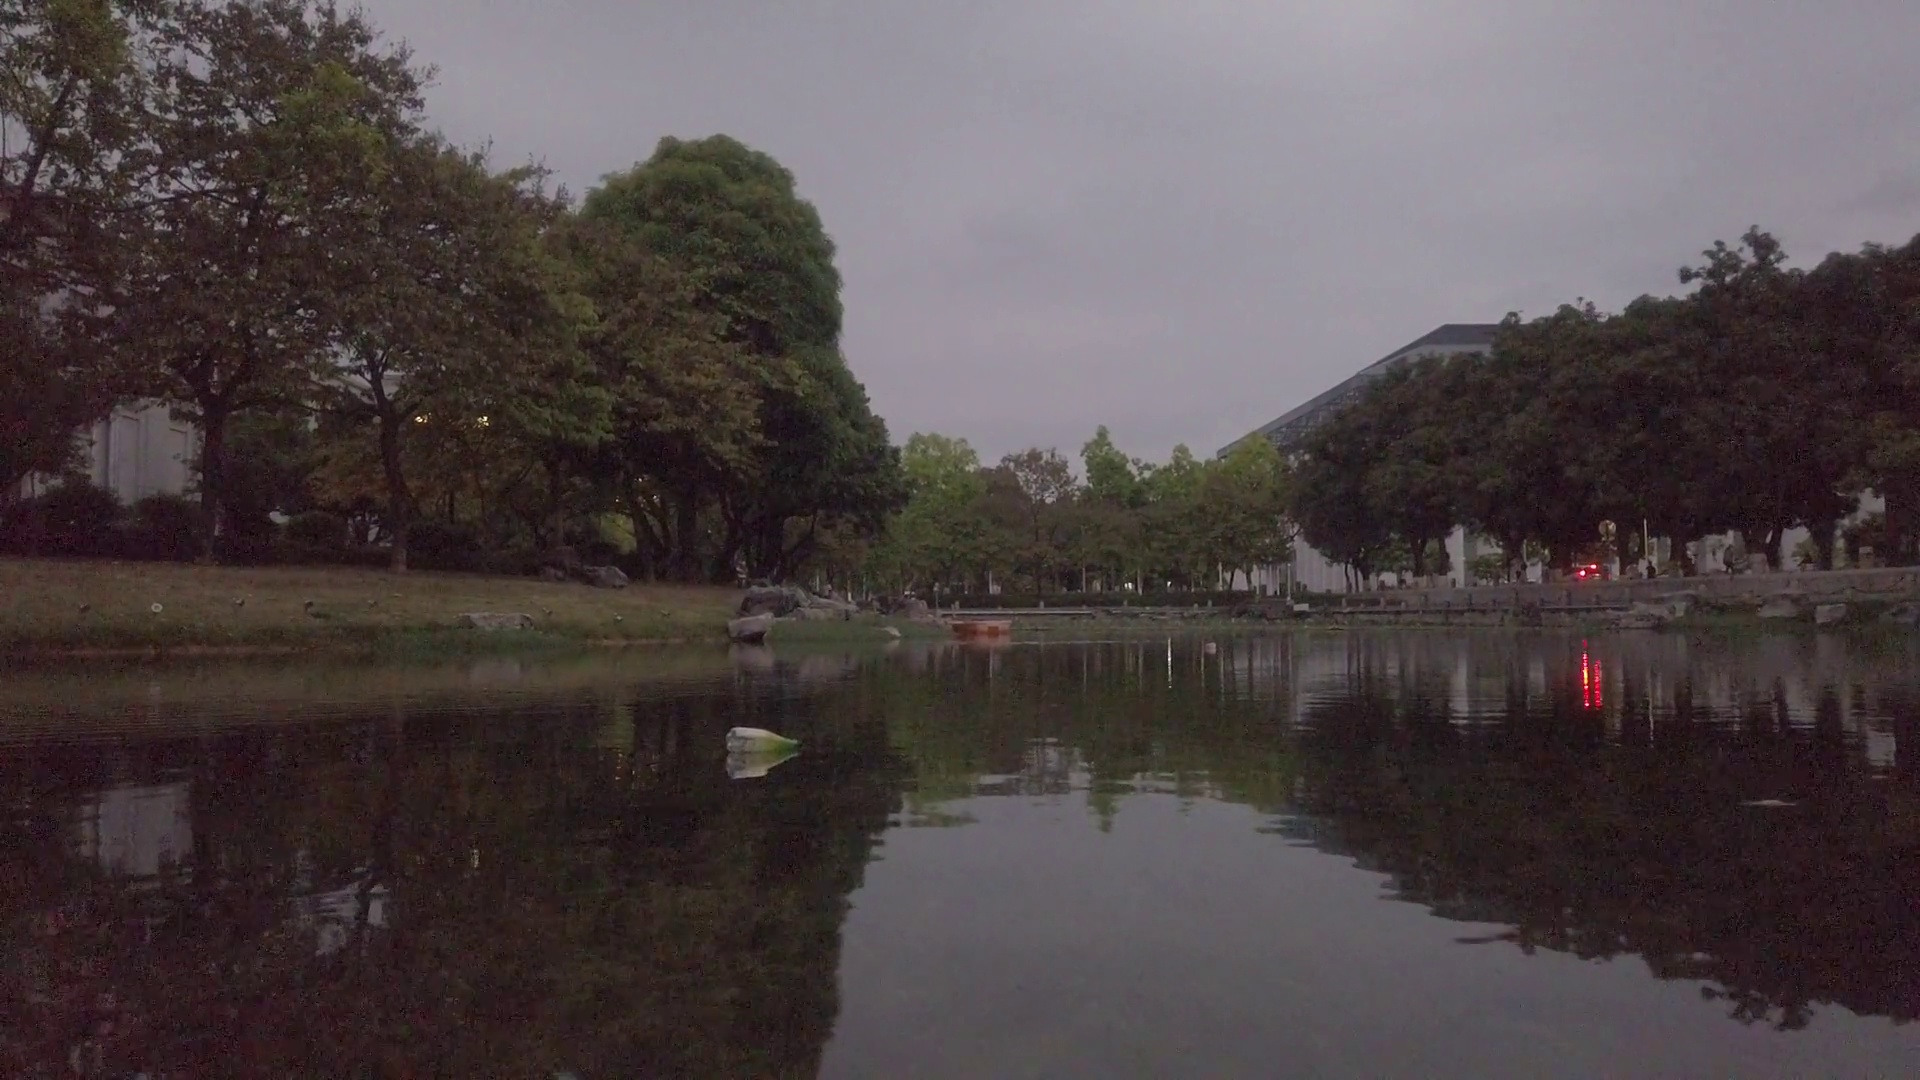bottle: (727, 723, 804, 753), (1203, 640, 1220, 655)
